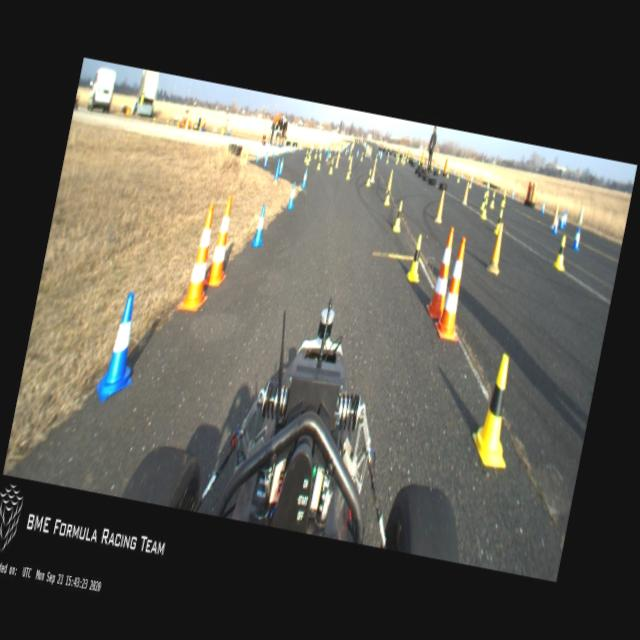blue_cone: (94, 289, 148, 407), (252, 204, 270, 248), (287, 180, 299, 210), (571, 225, 584, 252), (273, 158, 282, 184), (550, 213, 560, 236), (300, 166, 310, 188), (558, 210, 566, 230), (278, 157, 285, 176), (562, 210, 569, 228), (262, 152, 270, 167), (255, 146, 261, 162), (541, 200, 546, 213), (511, 188, 515, 201)
large_orange_cone: (177, 200, 226, 314), (432, 234, 478, 342), (204, 194, 242, 288), (424, 225, 459, 321)
orange_cone: (485, 222, 509, 276), (434, 189, 448, 224), (385, 169, 395, 195), (462, 181, 472, 206), (550, 204, 560, 228), (370, 162, 378, 183)
yellow_cone: (467, 350, 527, 470), (404, 232, 428, 284), (552, 234, 572, 272), (392, 200, 406, 233), (492, 208, 503, 235), (383, 184, 394, 206), (480, 198, 490, 220), (366, 168, 374, 188), (480, 190, 488, 210), (489, 190, 497, 210), (328, 159, 335, 175), (499, 192, 506, 208), (346, 164, 352, 181), (316, 156, 323, 170), (306, 152, 311, 164), (304, 150, 308, 162)
